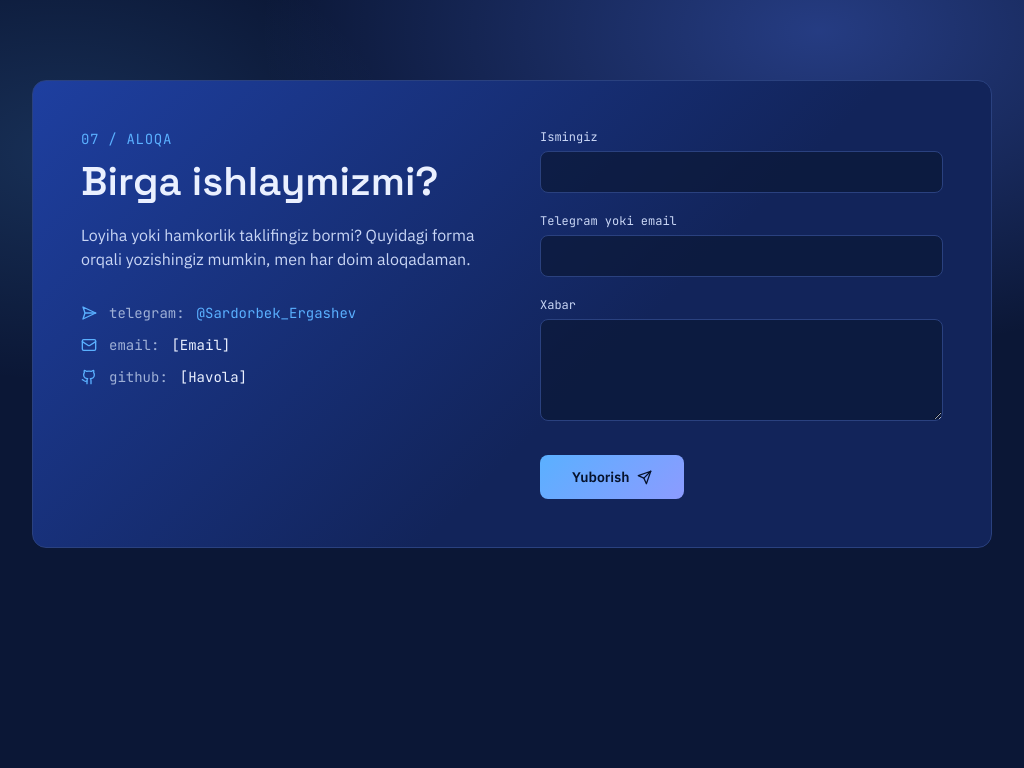
Scenario: ContactSection Form Validation › shows error if message is shorter than 10 characters
Type "Sardor" into the field labelled "Ismingiz".
click(742, 172); type("Sardor")  # box 540,151 -> 943,193
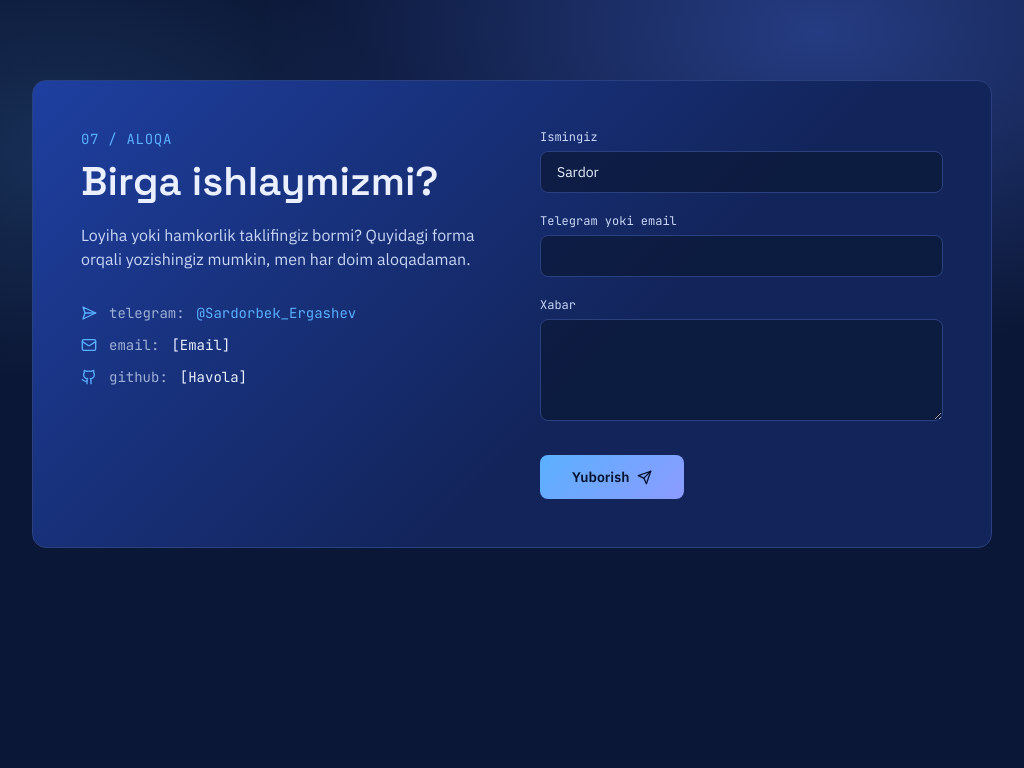
Type "@sardor" into the field labelled "Telegram yoki email".
click(742, 256); type("@sardor")  # box 540,235 -> 943,277
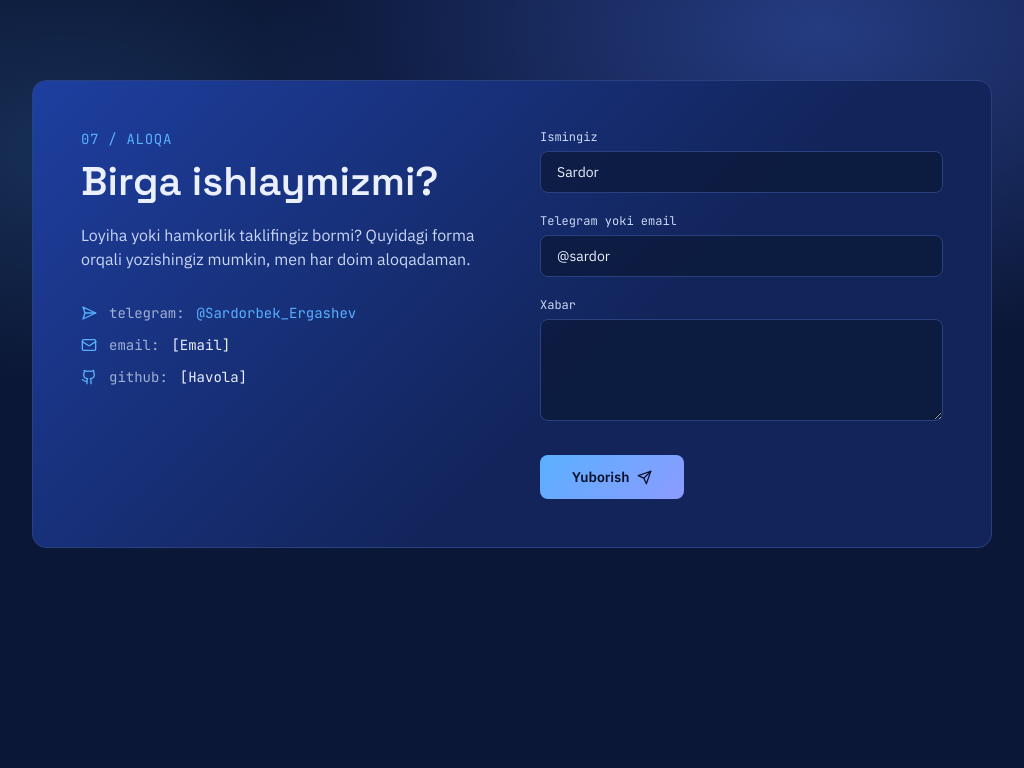
Type "Salom" into the text box labelled "Xabar".
click(742, 370); type("Salom")  # box 540,319 -> 943,421
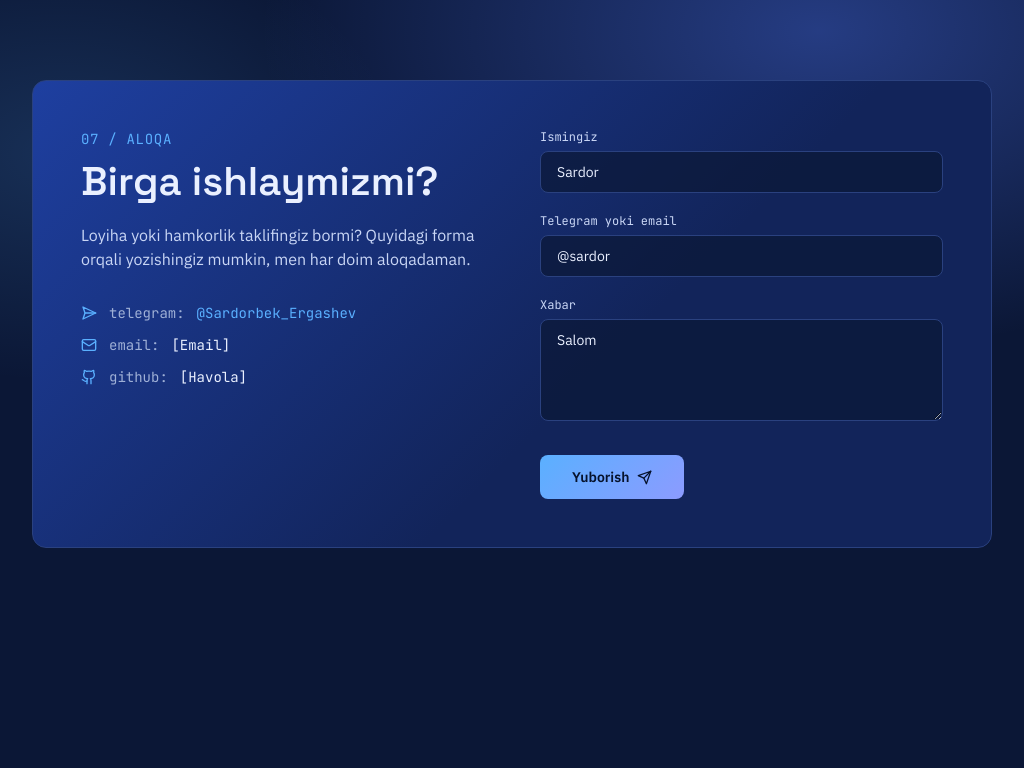
Click the button "Yuborish".
click(612, 477)  # box 540,455 -> 684,499
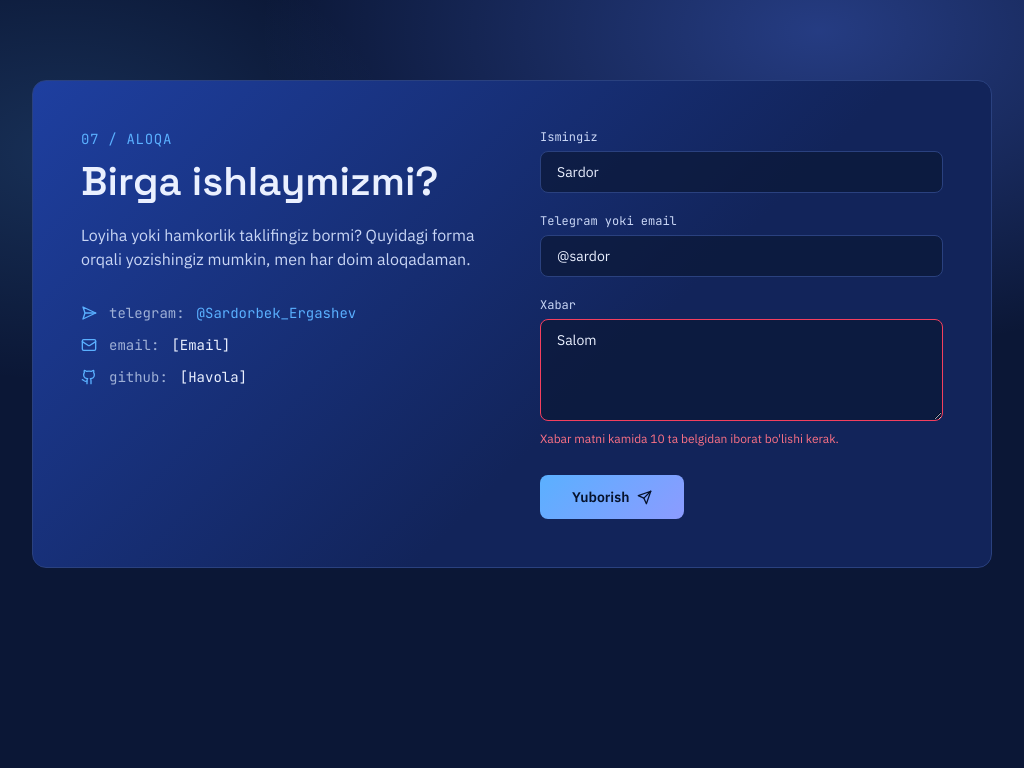
Now the text "Xabar matni kamida 10 ta belgidan iborat bo'lishi kerak." is shown, box 540,431 -> 839,446
